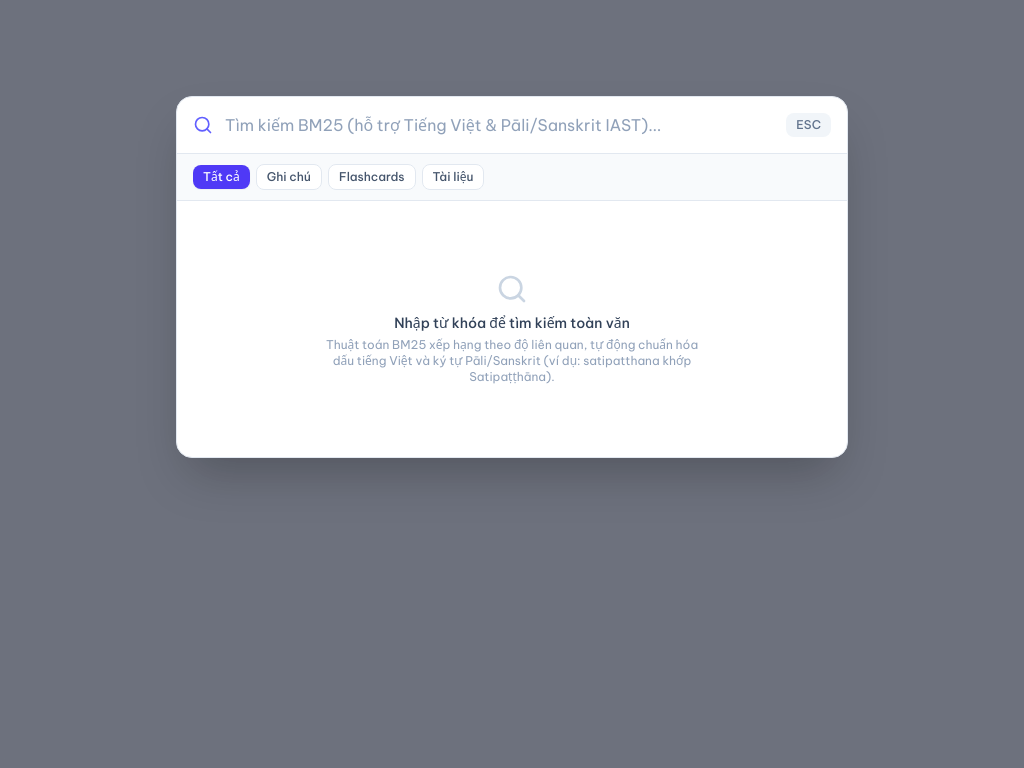
Test case: ResearchSearchModal Component › renders when open and responds to user input
In the field with test id "bm25-search-input": [500, 125] box top-left (225, 113), bottom-right (774, 137), type "Satipaṭṭhāna"
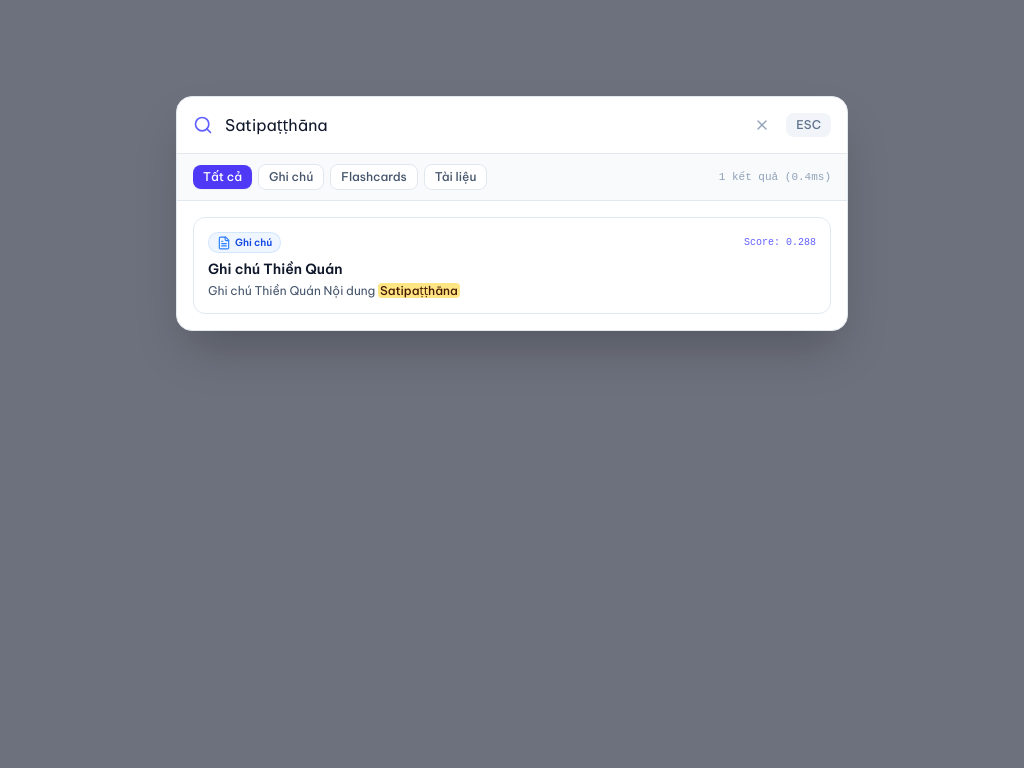
Now the element with test id "search-result-item" is shown, box top-left (193, 217), bottom-right (831, 314)
